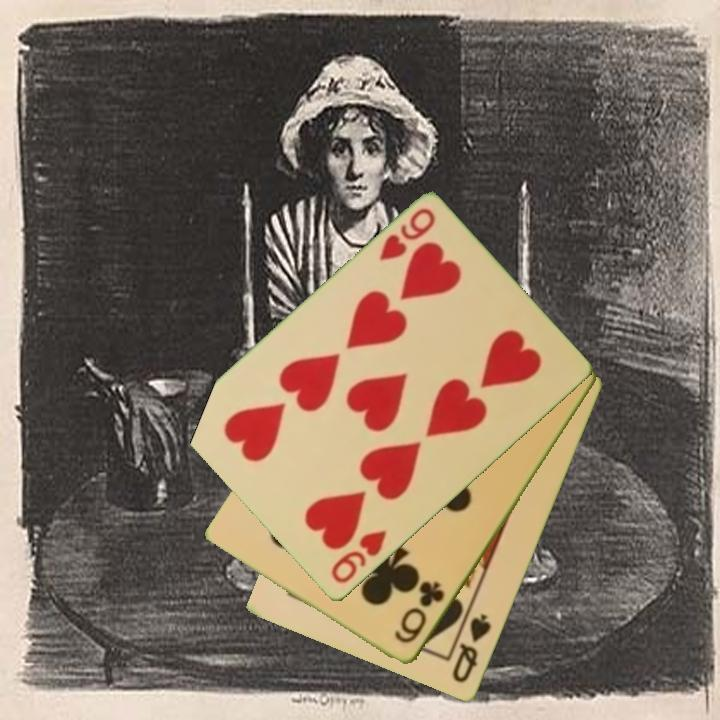6c: (391, 578, 448, 647)
9h: (375, 204, 439, 265), (327, 527, 390, 587)
Qs: (449, 610, 495, 687)
